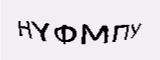А: (72, 7, 86, 40)
Б: (29, 16, 50, 50)
Д: (88, 9, 108, 39)
Х: (108, 9, 127, 33)
Я: (50, 10, 72, 46)
